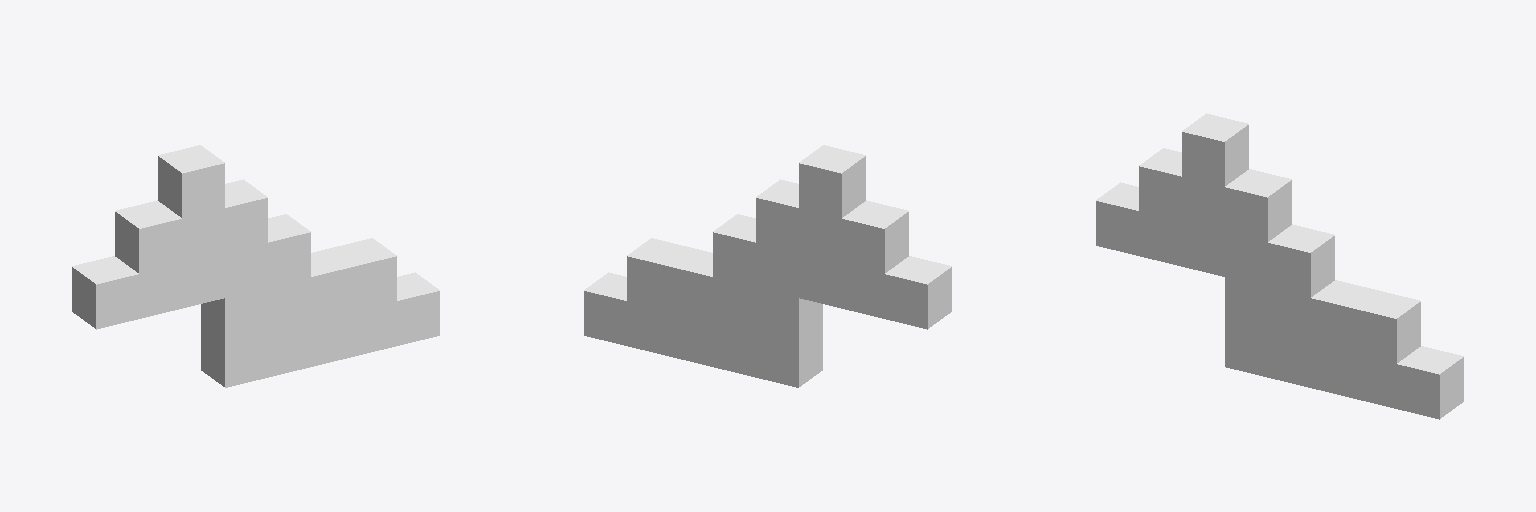
Rendered from YellowHouseParts-87.obj.
3 renders of one model, left to right at view 1: azimuth 30°, elevation 25°; view 2: azimuth 150°, elevation 25°; view 3: azimuth 330°, elevation 25°, orthographic.
Visible parts, largest first — view 1: object 1; view 2: object 1; view 3: object 1.
Boxes of the visible parts, <box> form: object 1: <box>72,145,439,387</box>; object 1: <box>584,145,951,387</box>; object 1: <box>1096,113,1463,419</box>.
Bounding box in the file's own units: 0.8 × 0.5 × 0.1.